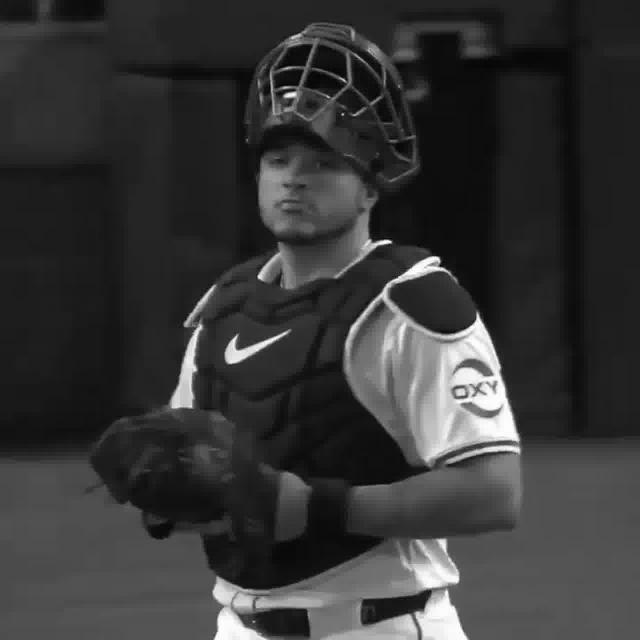baseball_glove: (92, 408, 273, 540)
